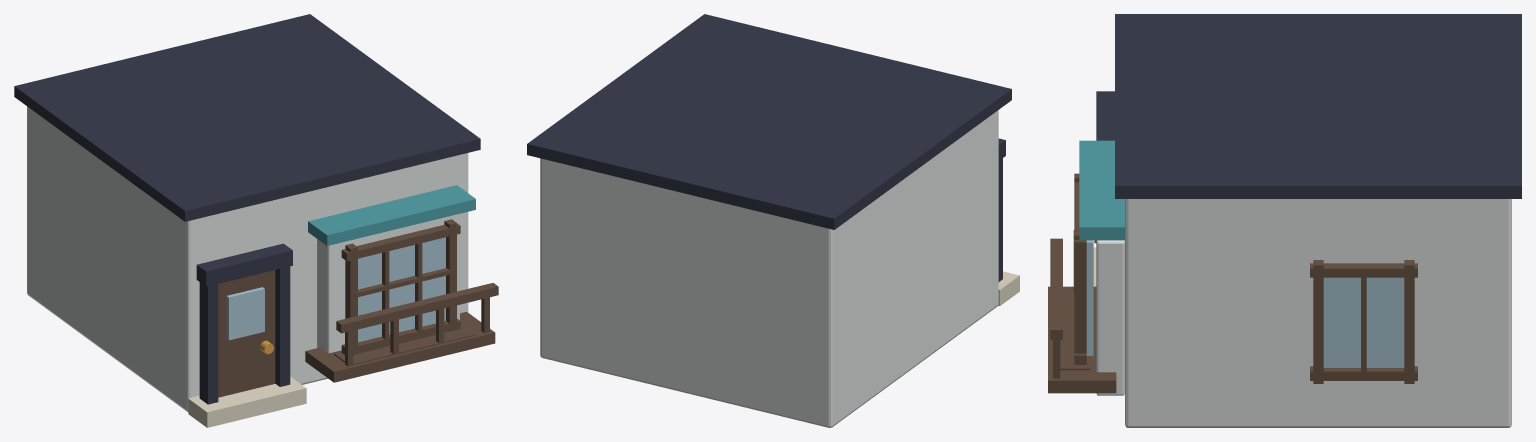
Rendered from floor_banks_1.glb.
3 renders of one model, left to right at view 1: azimuth 30°, elevation 25°; view 2: azimuth 150°, elevation 25°; view 3: azimuth 270°, elevation 25°, orthographic. The views are drawn at different scales.
Visible parts, largest first — view 1: floor_banks_1 ink, floor_banks_1 plaster, floor_banks_1 wood, floor_banks_1 glass, floor_banks_1 river, floor_banks_1 mist; view 2: floor_banks_1 plaster, floor_banks_1 ink, floor_banks_1 mist; view 3: floor_banks_1 plaster, floor_banks_1 ink, floor_banks_1 wood, floor_banks_1 glass, floor_banks_1 river.
Boxes of the visible parts, x1,y1,x2,y2 form: floor_banks_1 ink: (14, 14, 480, 404); floor_banks_1 plaster: (27, 106, 468, 411); floor_banks_1 wood: (218, 219, 498, 397); floor_banks_1 glass: (226, 237, 445, 342); floor_banks_1 river: (308, 185, 475, 245); floor_banks_1 mist: (188, 376, 306, 427); floor_banks_1 plaster: (540, 110, 998, 427); floor_banks_1 ink: (527, 14, 1011, 281); floor_banks_1 mist: (998, 271, 1019, 305); floor_banks_1 plaster: (1096, 199, 1511, 427); floor_banks_1 ink: (1096, 14, 1521, 198); floor_banks_1 wood: (1048, 173, 1417, 393); floor_banks_1 glass: (1086, 240, 1404, 367); floor_banks_1 river: (1079, 140, 1124, 240).
Bounding box in the file's own units: 0.7345 × 0.48 × 0.8325.
